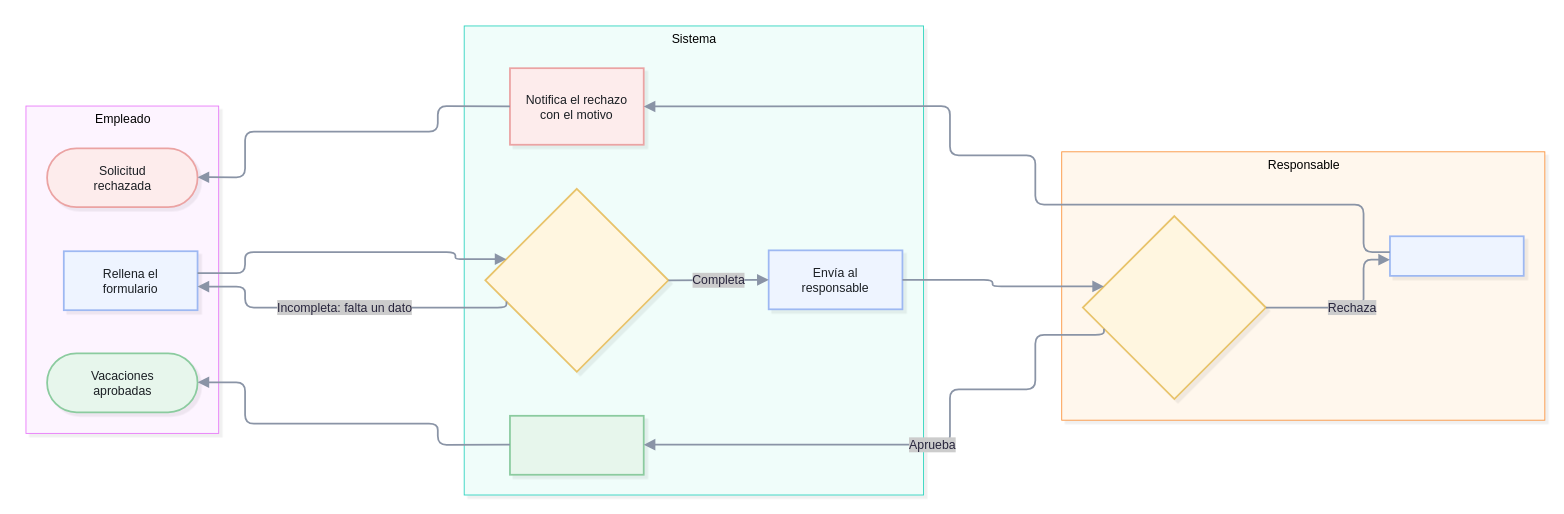
Image size: 1564x514. Some labels were removed from this diagram. Here are the shapes that lost their labels. From the top down, the centre of each, then its label:
At [1458,257]: "Indica el motivo".
At [578,281]: "¿Datos completos?".
At [1176,309]: "¿Aprueba?".
At [578,446]: "Notifica la aprobación".
